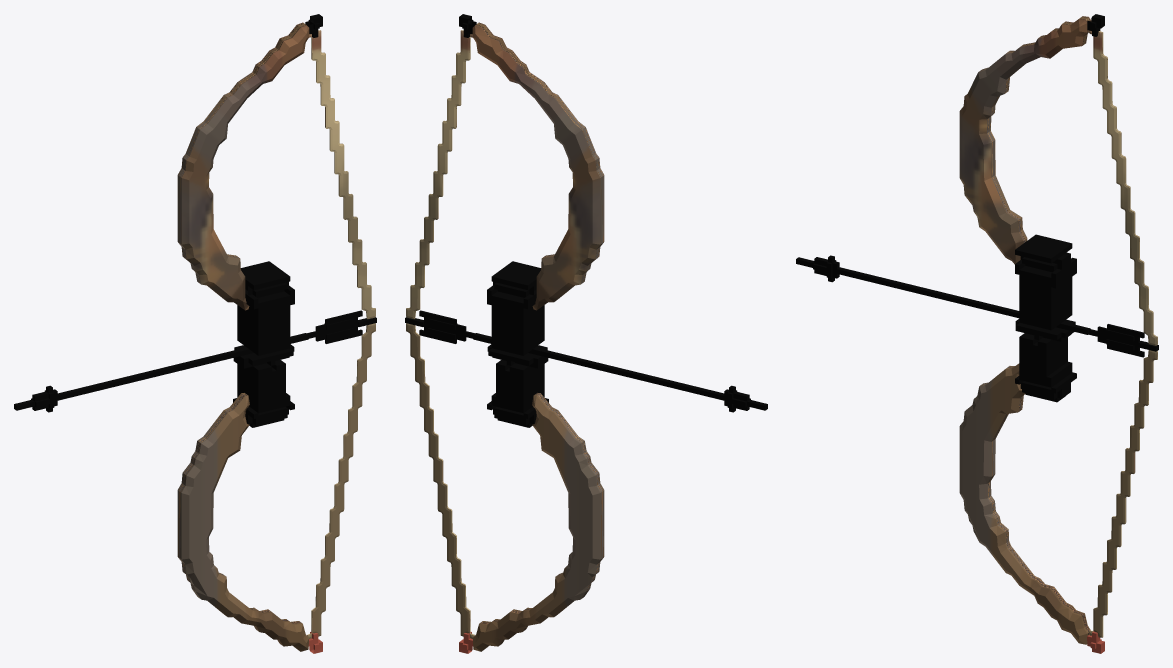
The model's file is laminated_horn_bow_pulling_1.obj.
3 renders of one model, left to right at view 1: azimuth 30°, elevation 25°; view 2: azimuth 150°, elevation 25°; view 3: azimuth 330°, elevation 25°, orthographic.
Parts seen in each view (by area): view 1: laminated_horn_bow_pulling_1; view 2: laminated_horn_bow_pulling_1; view 3: laminated_horn_bow_pulling_1.
Boxes of the visible parts, left/top/right/bottom form: laminated_horn_bow_pulling_1: left=14, top=14, right=376, bottom=653; laminated_horn_bow_pulling_1: left=405, top=14, right=767, bottom=653; laminated_horn_bow_pulling_1: left=796, top=14, right=1158, bottom=653.
Size of the model in its own units: 0.8229 by 1.39 by 0.0833.
